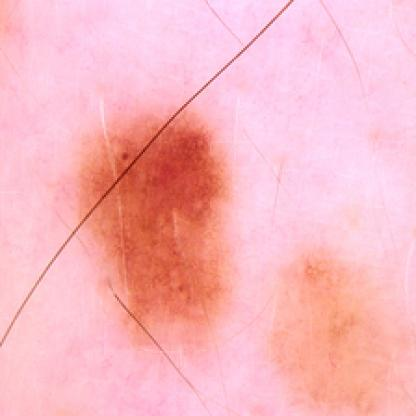benign: (72, 117, 249, 329)
